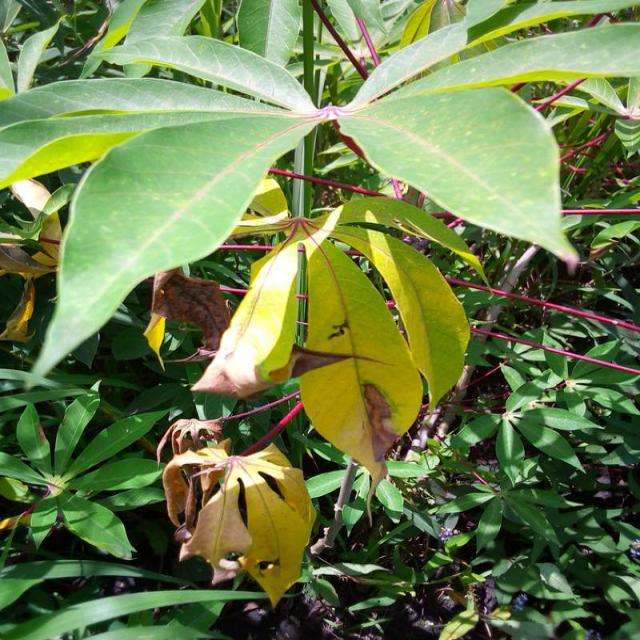cassava leaf: (28, 109, 318, 384), (335, 82, 582, 274), (298, 230, 426, 508), (164, 434, 318, 609)
